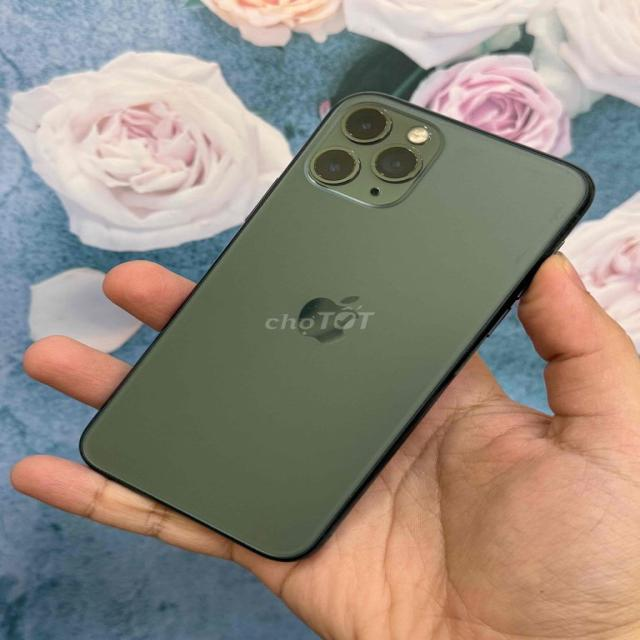scratch: (312, 102, 432, 188)
